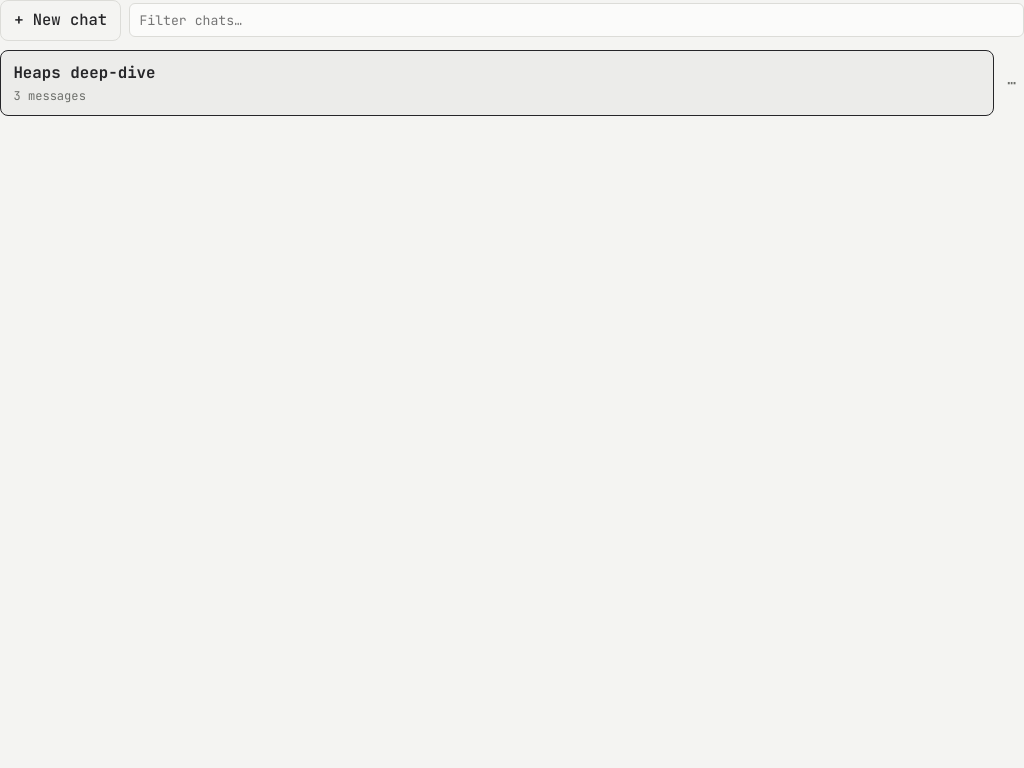
Test: SessionList (vertical list) › does not rename when the dialog is cancelled
The width and height of the screenshot is (1024, 768).
Click the button named "Heaps deep-dive options" at (1012,83), box [999,50,1023,116]
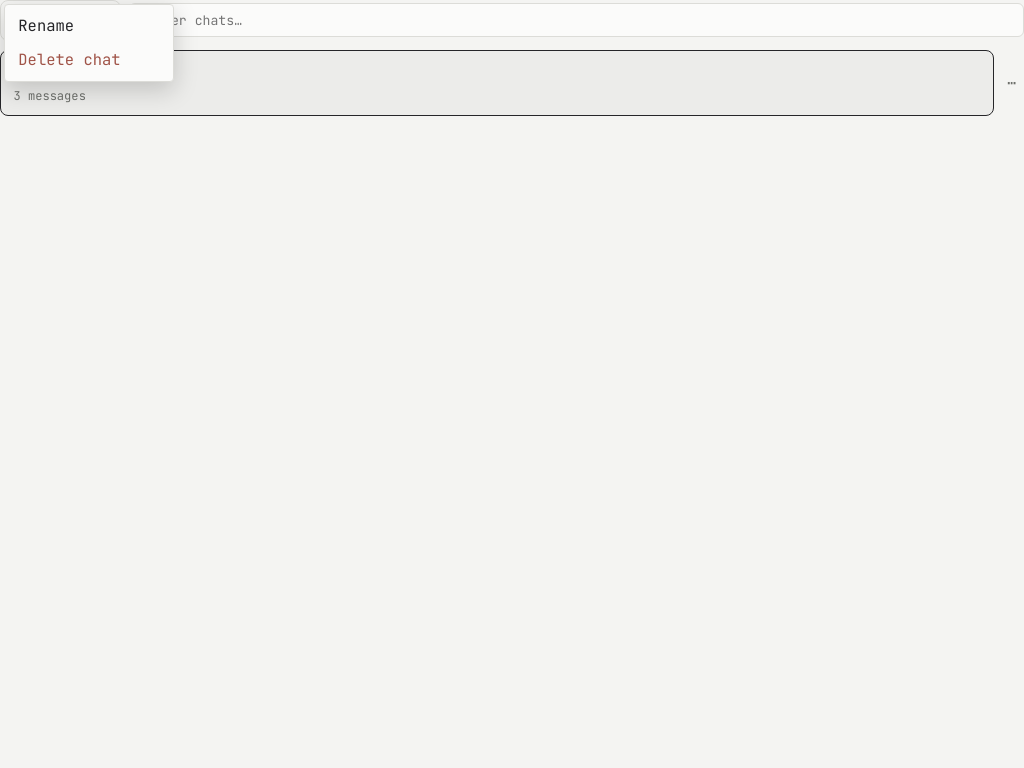
Click the menu item "Rename" at (89,26), box [9,9,169,43]
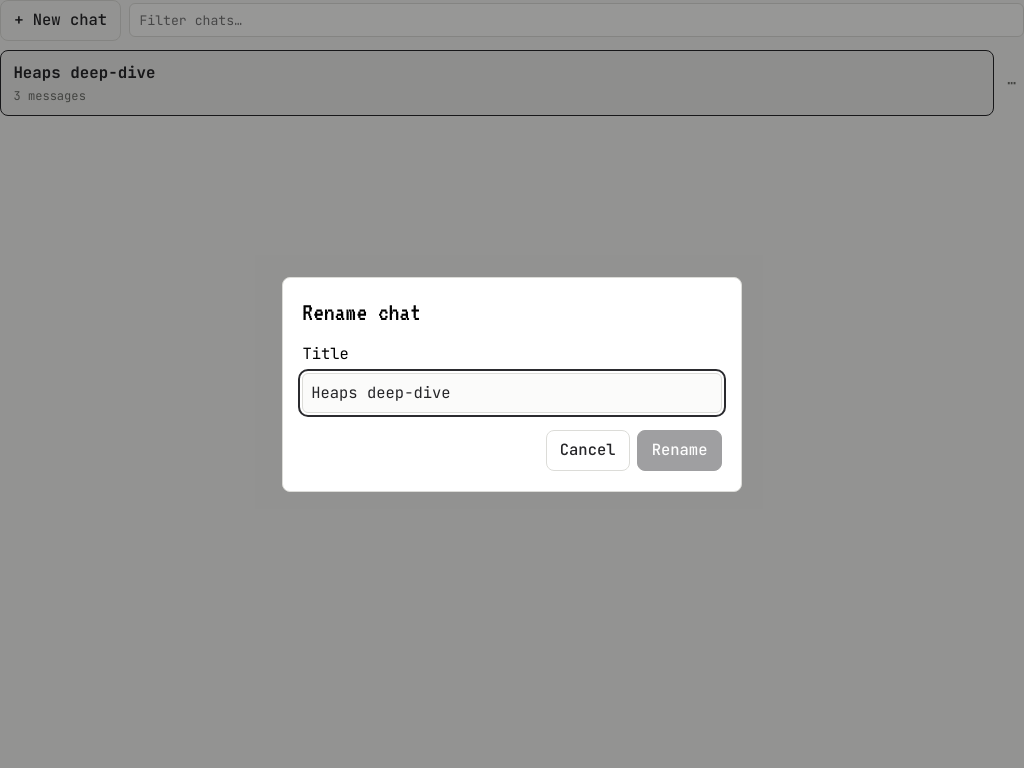
Click the button "Cancel" at (588,451), box [546,430,630,471]
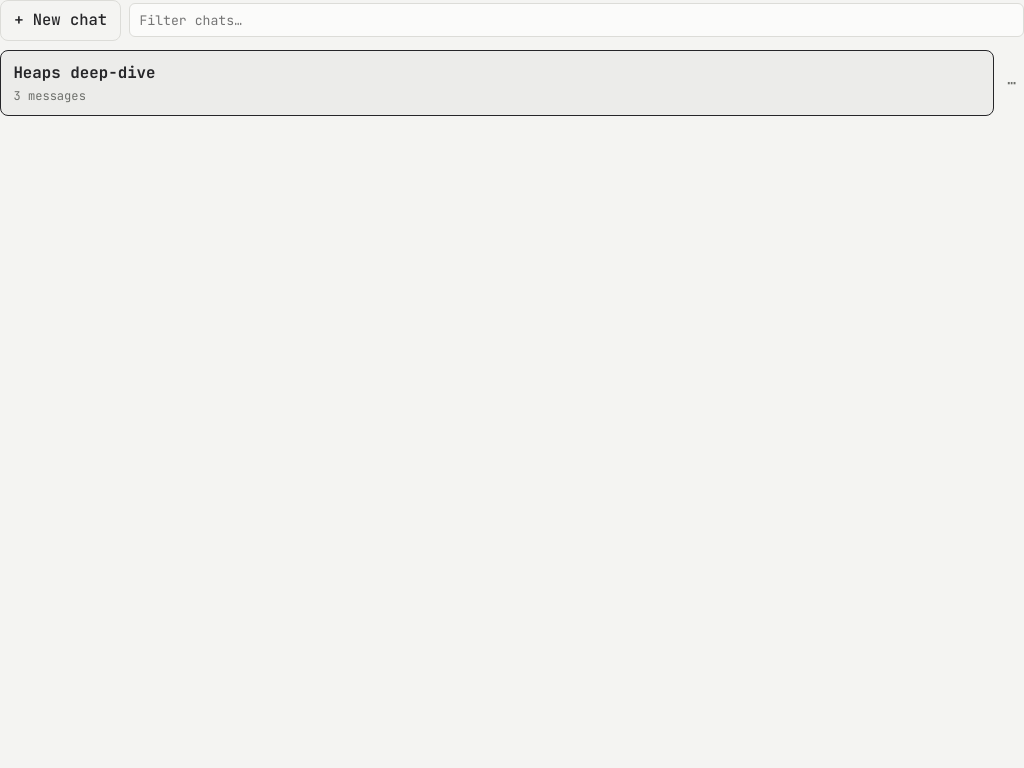
Now the dialog is gone
